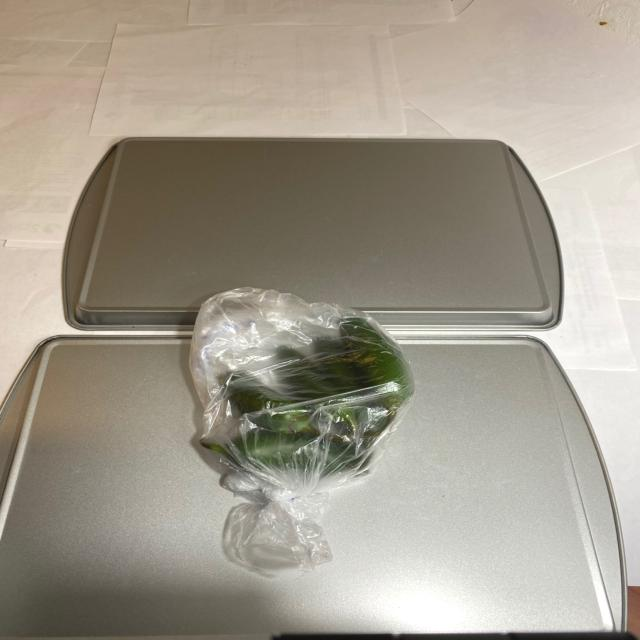chilli: (194, 304, 418, 502)
